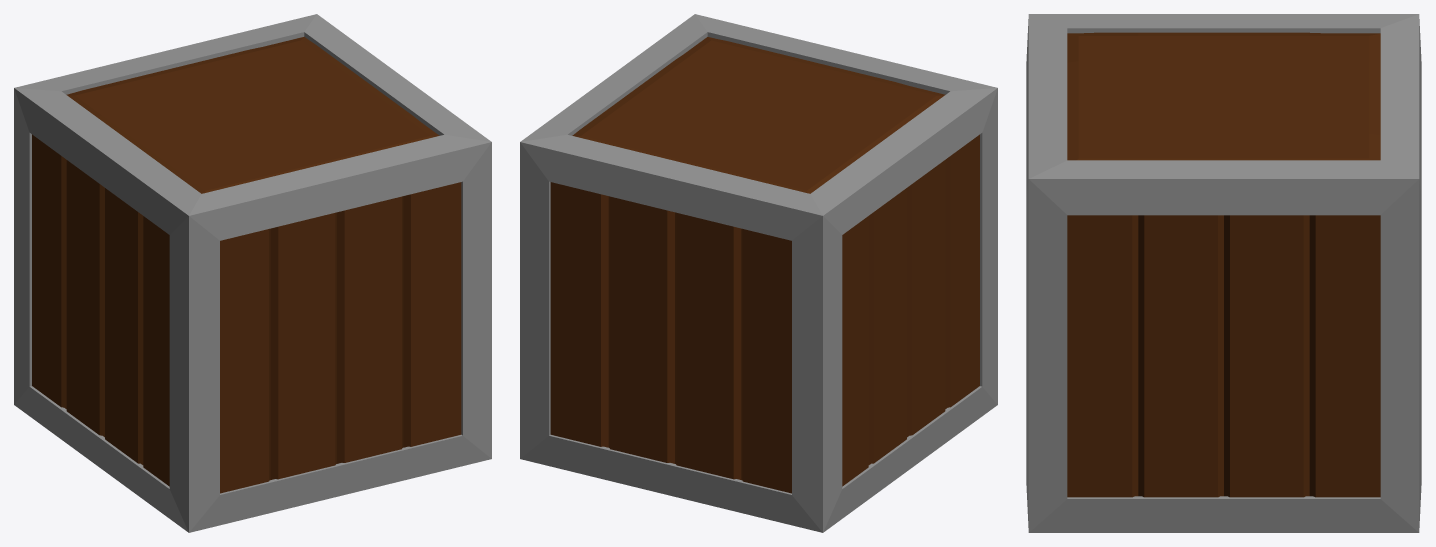
File: WoodBox.fbx
3 views of the same model, side by side, from view 1: azimuth 30°, elevation 25°; view 2: azimuth 150°, elevation 25°; view 3: azimuth 270°, elevation 25° (orthographic). The views are drawn at different scales.
Parts seen in each view (by area): view 1: WoodBox; view 2: WoodBox; view 3: WoodBox.
Boxes of the visible parts, x1,y1,x2,y2 form: WoodBox: (14,14,491,532); WoodBox: (520,14,997,532); WoodBox: (1026,14,1421,532).
Bounding box in the file's own units: 200 × 200 × 200.
